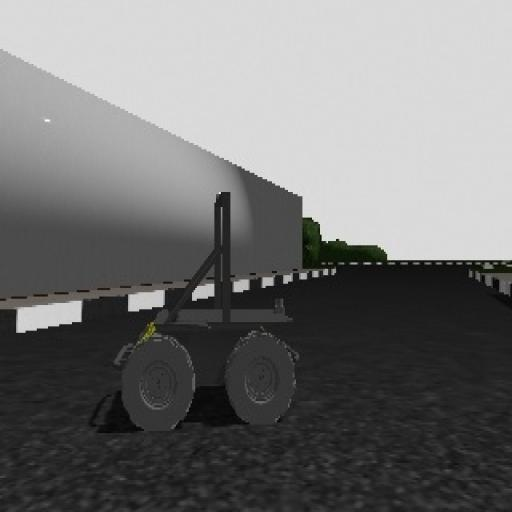huskya200: (86, 182, 304, 434)
